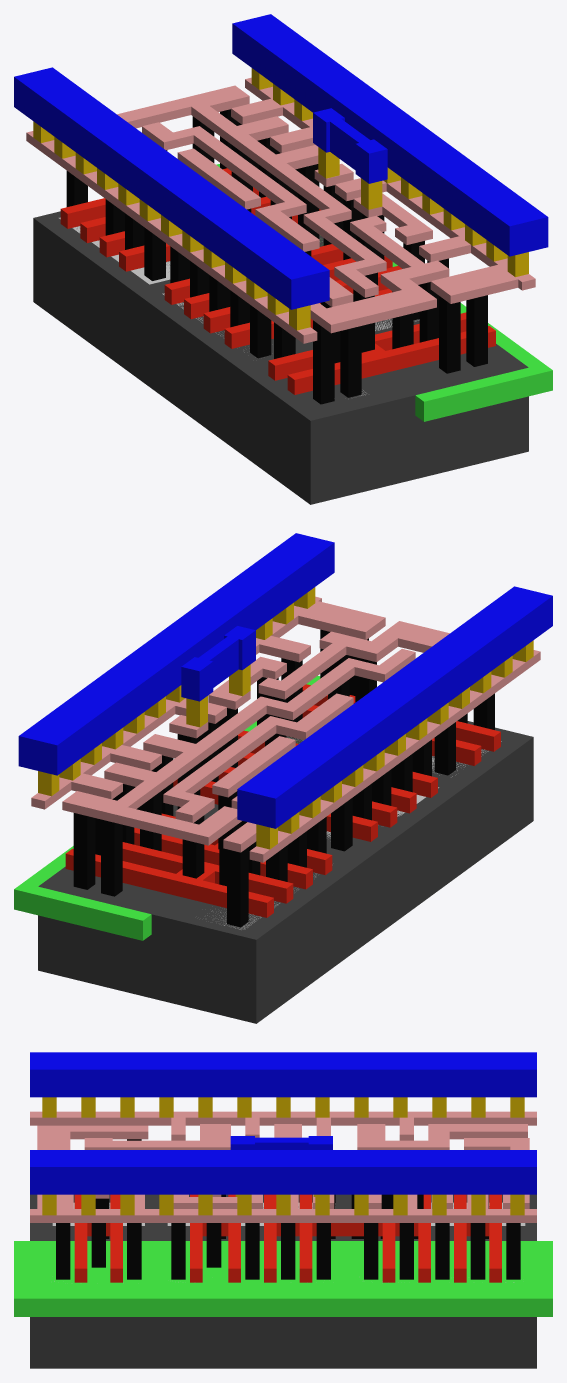
Rendered from sky130_fd_sc_hd__xnor2_2.obj.
3 views of the same model, one above another, from view 1: azimuth 30°, elevation 25°; view 2: azimuth 150°, elevation 25°; view 3: azimuth 270°, elevation 25° (orthographic). The views are drawn at different scales.
Visible parts, largest first — view 1: subs, metal1, li, licon, poly, mcon, nwell; view 2: subs, metal1, li, licon, poly, mcon, nwell; view 3: metal1, nwell, subs, li, licon, poly, mcon.
Part boxes in pixels (x1,y1,x2,y2): subs: (33,211,528,504); metal1: (14,14,548,309); li: (26,77,535,343); licon: (66,109,487,404); poly: (60,168,495,394); mcon: (33,68,528,330); nwell: (216,164,552,421); subs: (38,721,533,1023); metal1: (18,533,552,828); li: (31,596,540,862); licon: (73,629,494,927); poly: (65,684,500,917); mcon: (38,587,533,849); nwell: (14,676,320,940); metal1: (30,1052,536,1194); nwell: (14,1241,552,1316); subs: (30,1194,536,1368); li: (30,1111,536,1222); licon: (56,1139,520,1279); poly: (74,1194,501,1282); mcon: (42,1097,524,1215).
Size of the model in its own units: 3.2 by 2.74 by 6.36.
